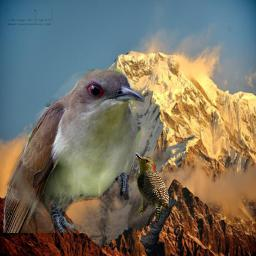Cuckoo: (3, 69, 145, 233)
Woodpecker: (133, 151, 169, 222)
